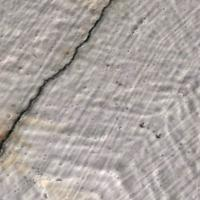crack: (1, 0, 119, 172)
